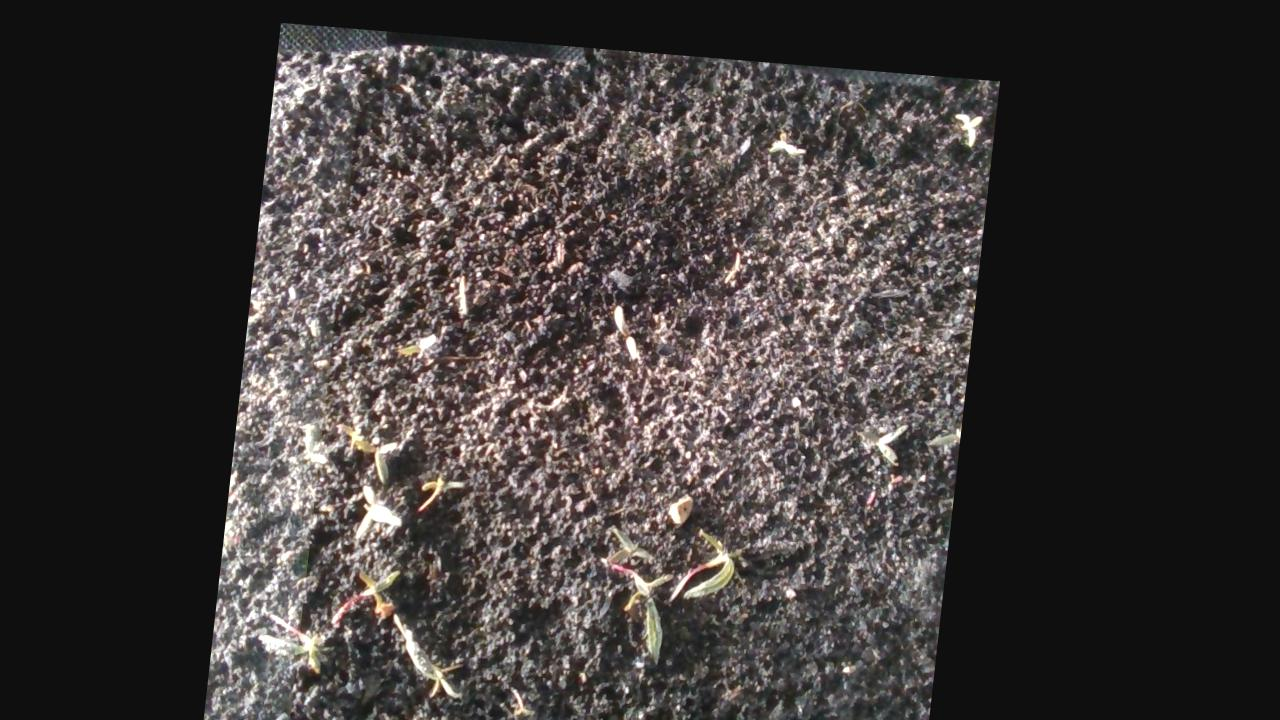weed: (394, 316, 447, 364), (422, 458, 475, 504), (615, 297, 650, 344), (955, 78, 987, 126), (771, 118, 803, 148)
